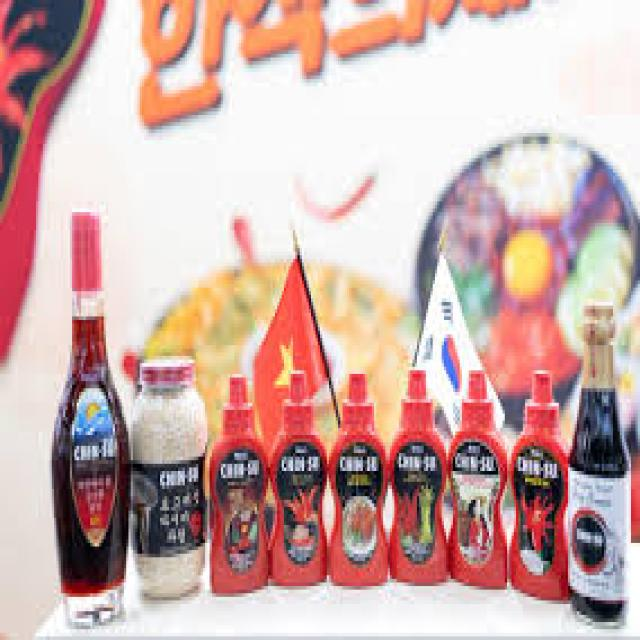tuong ot chinsu: (507, 365, 572, 602), (382, 367, 452, 587), (206, 371, 270, 594), (327, 370, 391, 586), (267, 368, 329, 588), (451, 368, 510, 586)
